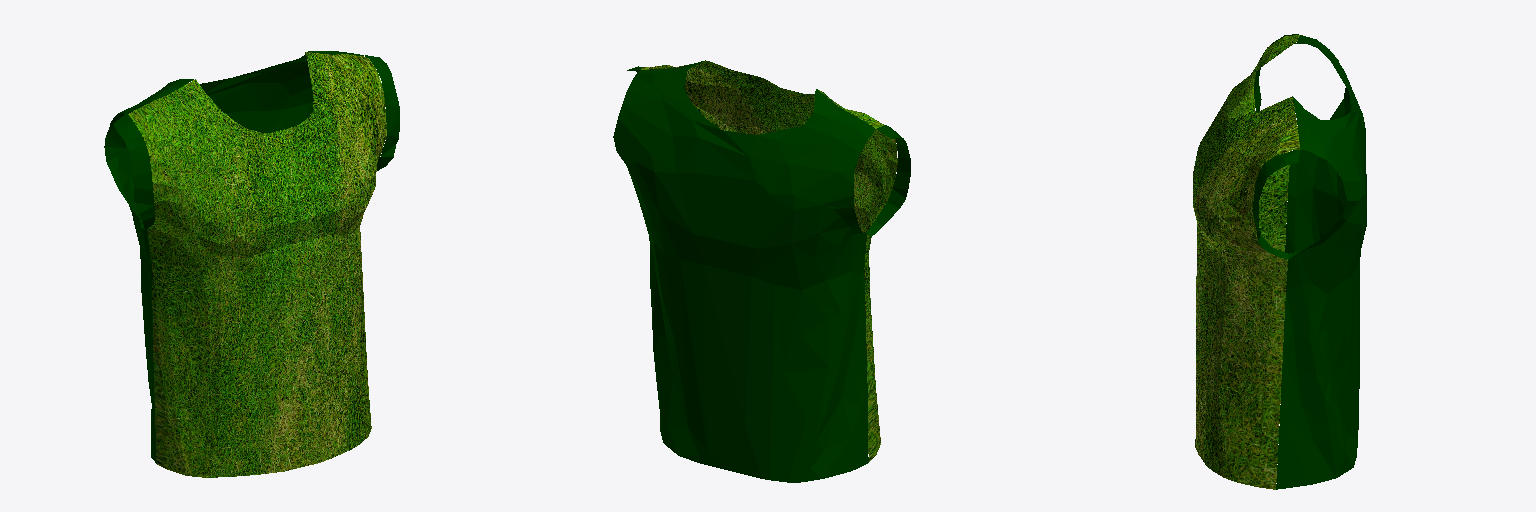
3 renders of one model, left to right at view 1: azimuth 30°, elevation 25°; view 2: azimuth 150°, elevation 25°; view 3: azimuth 270°, elevation 25°, orthographic.
Parts seen in each view (by area): view 1: T_shirt; view 2: T_shirt; view 3: T_shirt.
Boxes of the visible parts, x1,y1,x2,y2 form: T_shirt: [104, 51, 399, 477]; T_shirt: [613, 60, 910, 482]; T_shirt: [1193, 34, 1366, 489].
Size of the model in its own units: 0.2935 by 0.3892 by 0.1639.
Materials: 2 (1 with a texture image).